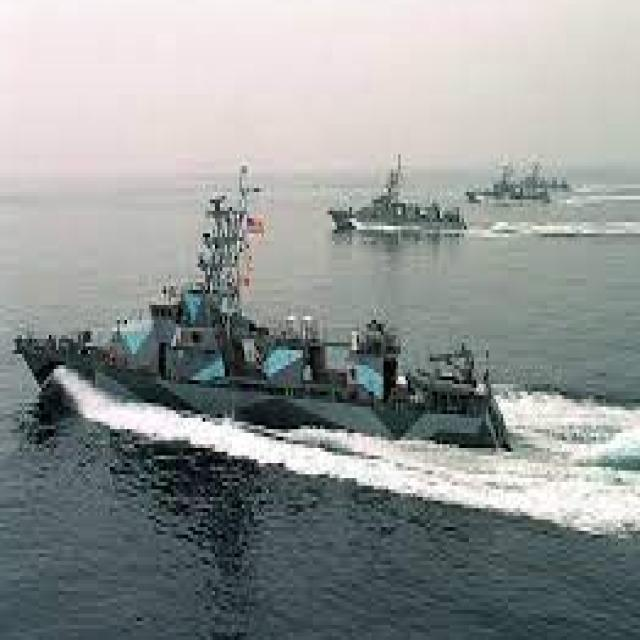navalvessels: (9, 159, 511, 488), (328, 132, 466, 249), (456, 150, 535, 212)
